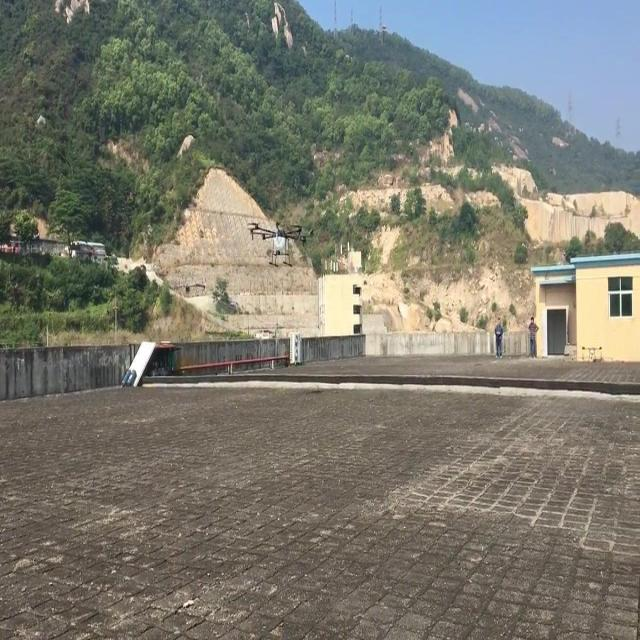drone: (247, 219, 315, 270)
